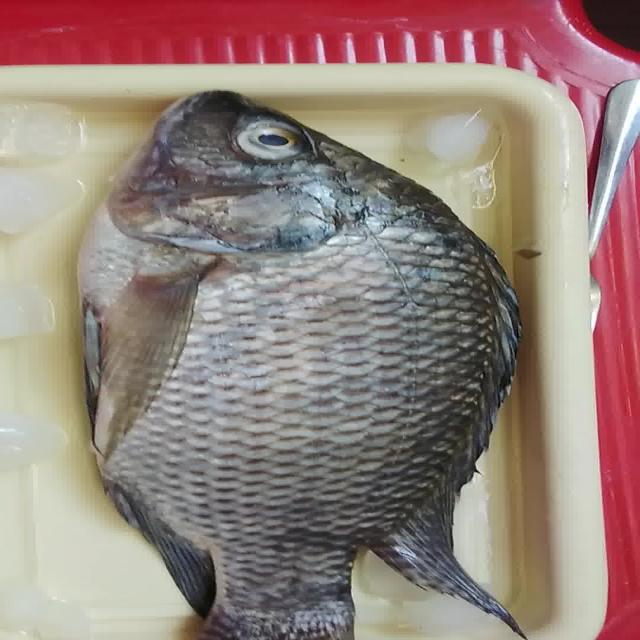Fresh: (83, 182, 547, 640), (207, 117, 330, 171)
